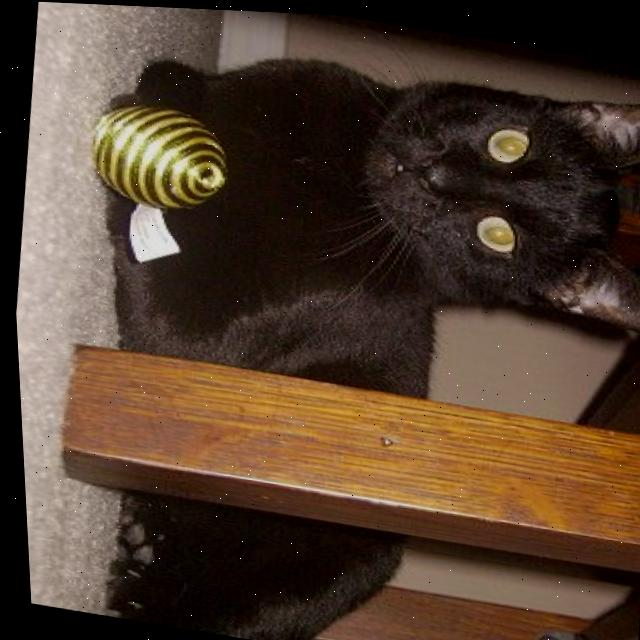Bombay: (46, 3, 640, 640)
